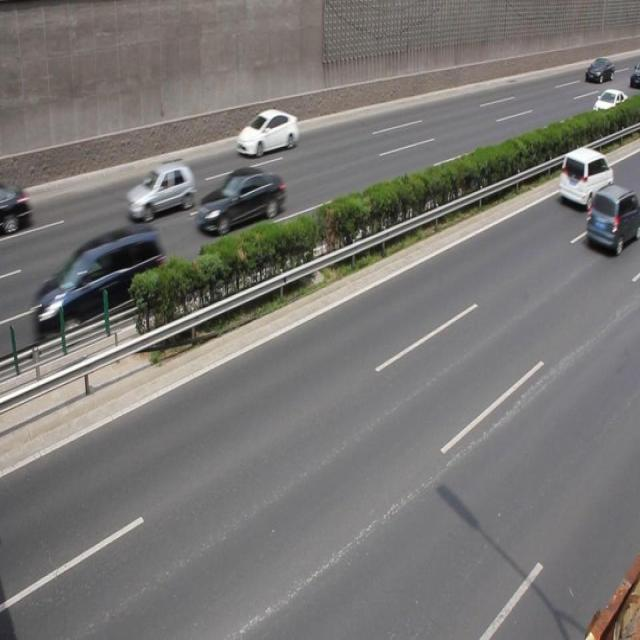car: (39, 222, 164, 356), (198, 168, 286, 235), (125, 163, 194, 225), (583, 183, 631, 256), (559, 147, 611, 210), (235, 108, 298, 159), (589, 89, 628, 124), (583, 58, 613, 83)
